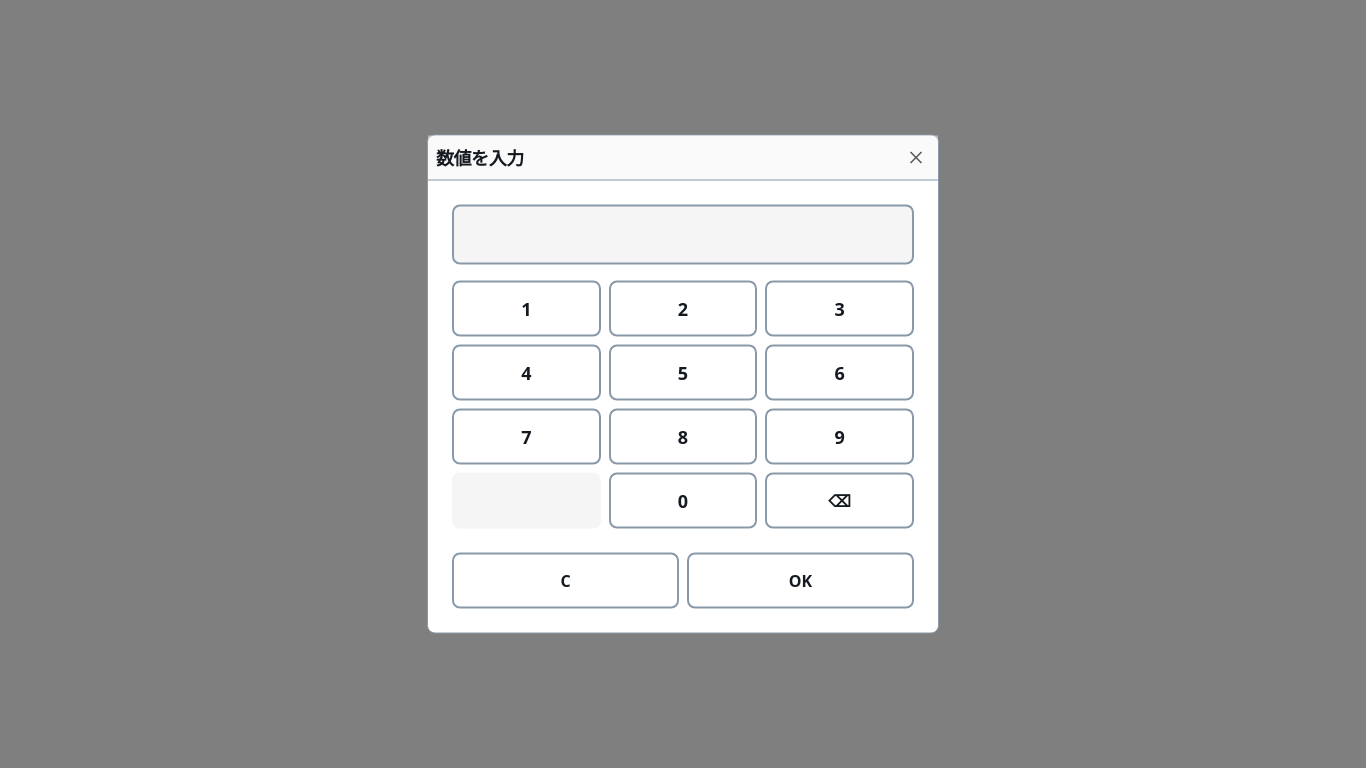
Test: KeypadModal Component › Number Variant (Default) › shows error on empty submit
The image size is (1366, 768).
Step 1. Click the button "OK" → (800, 580), box [687,552,914,608]
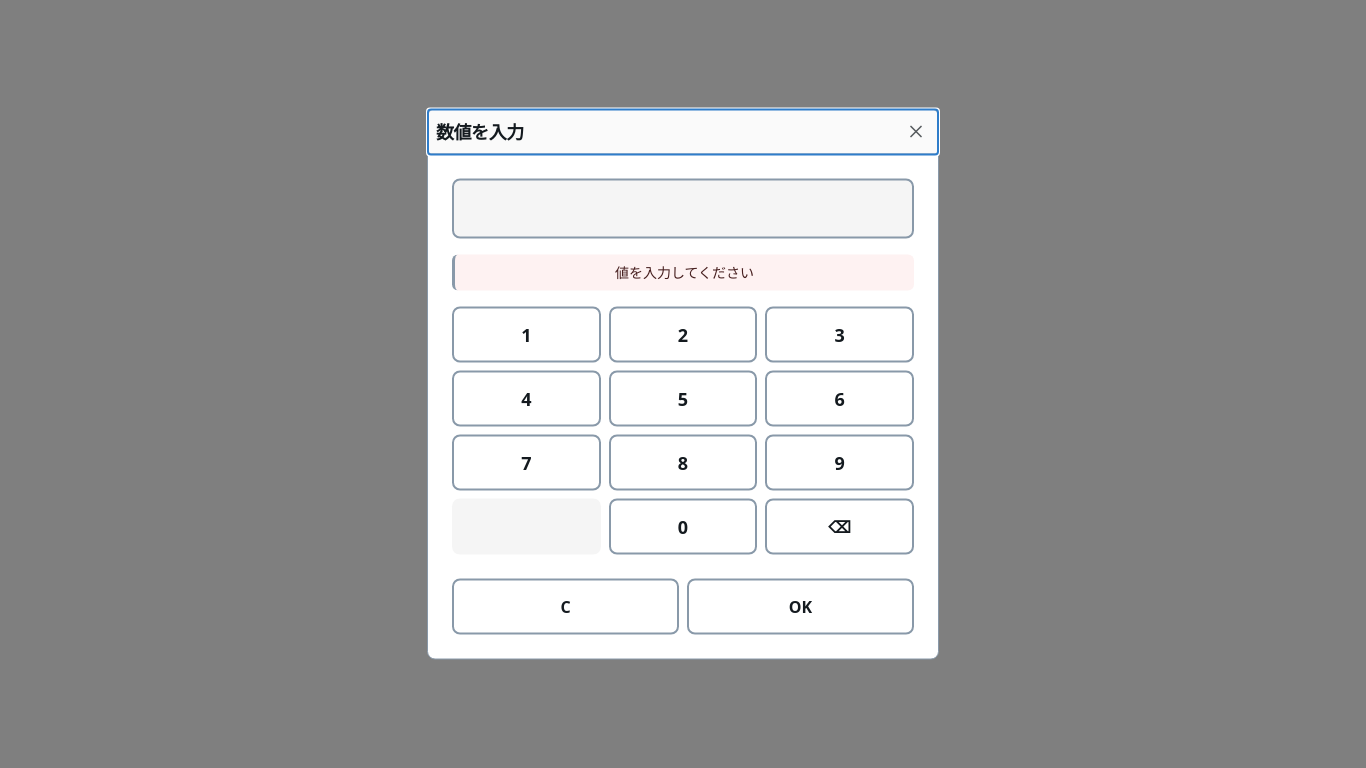
Now the text "値を入力してください" is shown, box [452,254,914,290]
